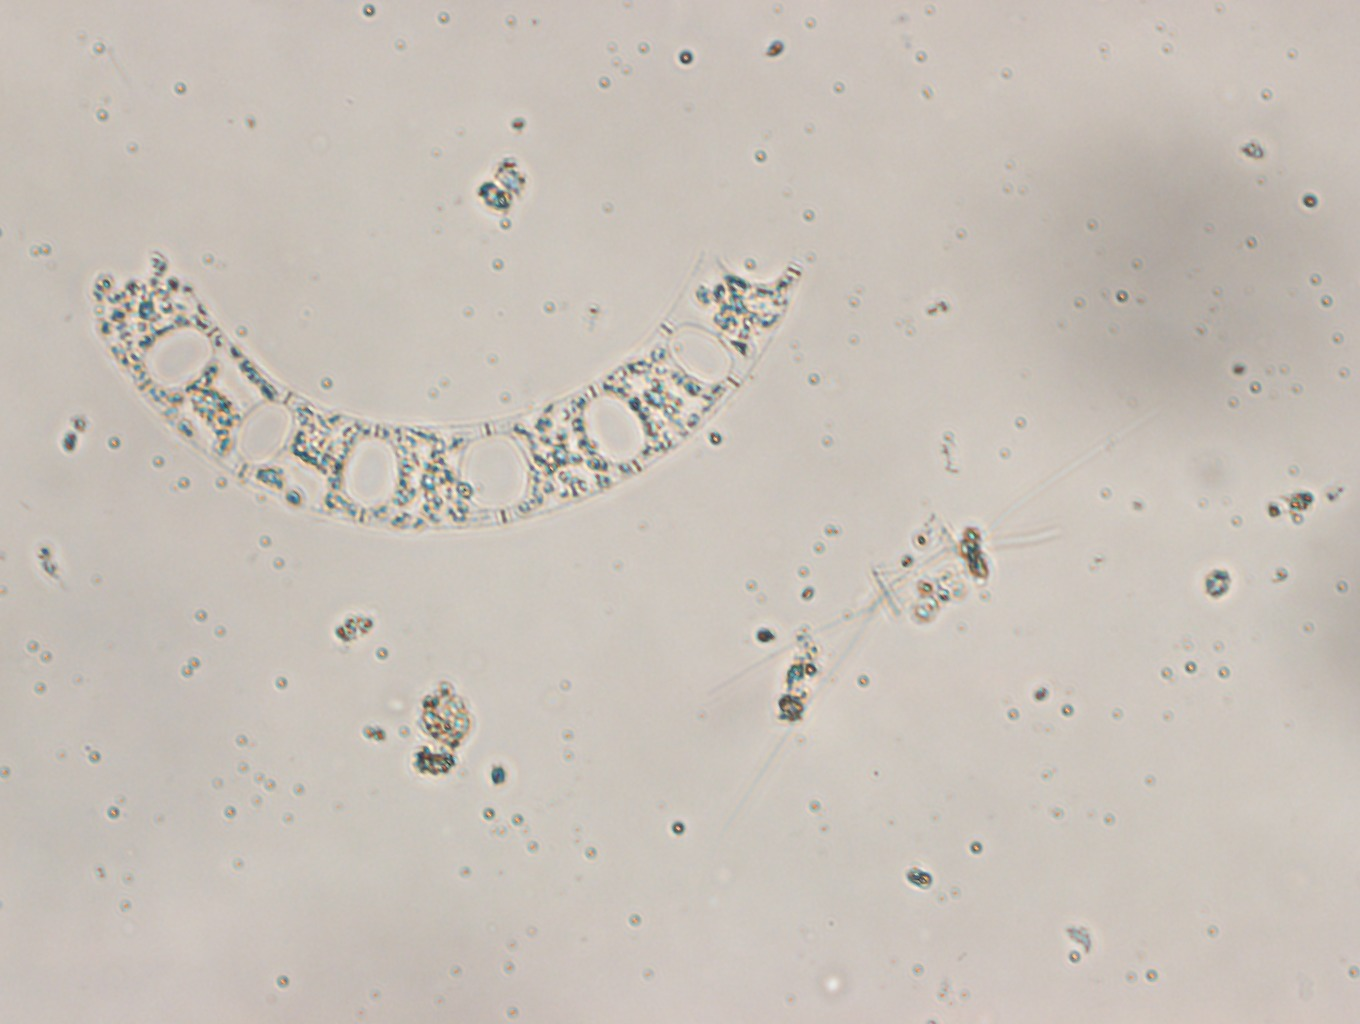chaetoceros: (707, 413, 1141, 810)
eucampia: (85, 244, 807, 531)
